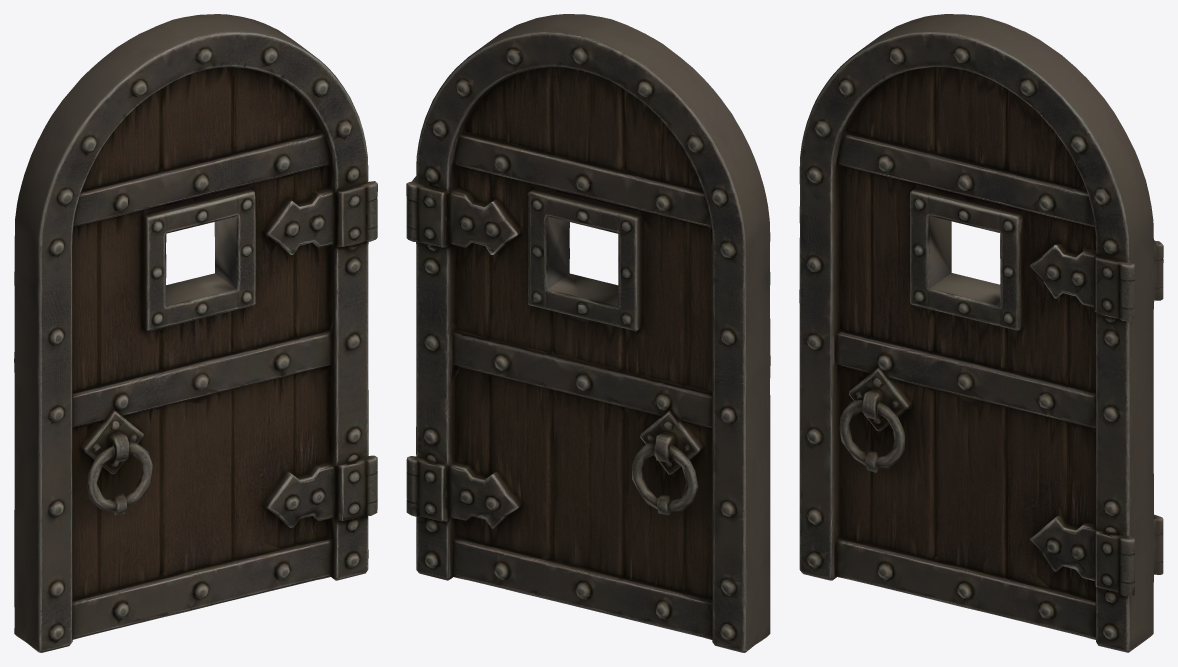
Rendered from Door_Wood.fbx.
The picture shows the model from 3 angles, left to right: view 1: azimuth 30°, elevation 25°; view 2: azimuth 150°, elevation 25°; view 3: azimuth 330°, elevation 25°; orthographic projection.
Parts seen in each view (by area): view 1: Door_Wood; view 2: Door_Wood; view 3: Door_Wood.
Boxes of the visible parts, x1,y1,x2,y2 form: Door_Wood: [14, 14, 377, 652]; Door_Wood: [406, 14, 770, 652]; Door_Wood: [799, 14, 1163, 652].
Size of the model in its own units: 133 by 218 by 28.07.
1 material, 1 textured.
